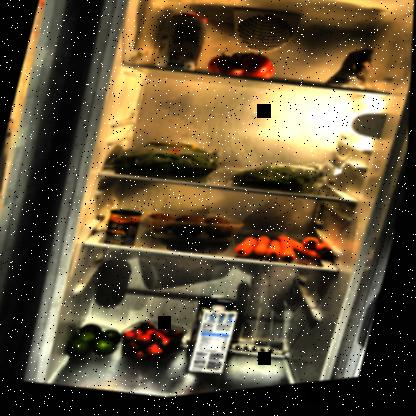carrot: (232, 225, 340, 281)
corn: (106, 208, 145, 245)
green_beans: (229, 154, 337, 211)
lime: (67, 319, 128, 368)
milk: (188, 292, 243, 375), (188, 305, 243, 383)
potato: (137, 199, 247, 259)
spinach: (107, 127, 229, 195)
strawberries: (119, 315, 195, 374)
tomato: (204, 46, 282, 92)
